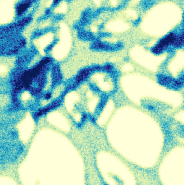hole_empty: (16, 123, 90, 185), (104, 104, 165, 170), (137, 4, 183, 37), (129, 45, 167, 74)
hole_filled: (32, 17, 75, 63), (86, 66, 119, 95)
